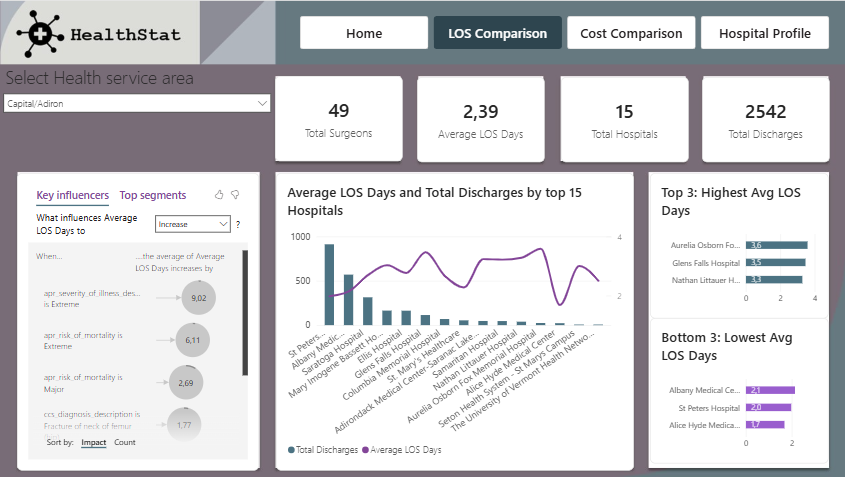

What the dashboard file says about the page in this screenshot:
{"tool":"powerbi","page":{"name":"LOS Comparison","canvas":[1920,1080],"ordinal":1},"visuals":[{"type":"lineStackedColumnComboChart","title":"Average LOS Days and Total Discharges by top 15 Hospitals","fields":{"Category":["hospital_discharges.facility_name"],"Y":["_Measures.Total Discharges"],"Y2":["_Measures.Average LOS Days"]},"box":[737.5,436.2,541.2,450],"z":0},{"type":"card","fields":{"Values":["_Measures.Total Surgeons"]},"box":[736,291,192.5,128.8],"z":1000},{"type":"slicer","fields":{"Values":["hospital_discharges.health_service_area"]},"box":[321.2,273.8,415,162.5],"z":2000},{"type":"keyDriversVisual","fields":{"ExplainBy":["hospital_discharges.apr_risk_of_mortality","hospital_discharges.apr_severity_of_illness_description","hospital_discharges.ccs_diagnosis_description","hospital_discharges.patient_disposition","hospital_discharges.gender","hospital_discharges.age_group","surgical_program_volume_summary.Surgical Program Size","hospital_discharges.health_service_area"],"Target":["_Measures.Average LOS Days"]},"box":[346.2,436.2,366.2,450],"z":3000},{"type":"clusteredBarChart","title":"Top 3: Highest Avg LOS Days","fields":{"Category":["hospital_discharges.facility_name"],"Y":["_Measures.Average LOS Days"]},"box":[1303.8,436.2,270,220],"z":4000},{"type":"clusteredBarChart","title":"Bottom 3: Lowest Avg LOS Days","fields":{"Category":["hospital_discharges.facility_name"],"Y":["_Measures.Average LOS Days"]},"box":[1303.8,656.2,270,220],"z":5000},{"type":"card","fields":{"Values":["_Measures.Average LOS Days"]},"box":[951.2,291.2,192.5,128.8],"z":6000},{"type":"card","fields":{"Values":["_Measures.Total Hospitals"]},"box":[1168.8,291.2,192.5,128.8],"z":7000},{"type":"card","fields":{"Values":["_Measures.Total Discharges"]},"box":[1381.2,291.2,192.5,128.8],"z":8000},{"type":"pageNavigator","box":[774.3,200,800,50],"z":9000}]}

Visuals, with their boxes in screenshot pixels (x1, y1, x2, y2), scaled from the page's 1920x1080 canvas onto the 845x477 screenshot:
"Average LOS Days and Total Discharges by top 15 Hospitals" lineStackedColumnComboChart: locate(325, 193, 563, 391)
card - _Measures.Total Surgeons: locate(324, 129, 409, 185)
slicer - hospital_discharges.health_service_area: locate(141, 121, 324, 193)
keyDriversVisual - hospital_discharges.apr_risk_of_mortality x hospital_discharges.apr_severity_of_illness_description: locate(152, 193, 314, 391)
"Top 3: Highest Avg LOS Days" clusteredBarChart: locate(574, 193, 693, 290)
"Bottom 3: Lowest Avg LOS Days" clusteredBarChart: locate(574, 290, 693, 387)
card - _Measures.Average LOS Days: locate(419, 129, 503, 186)
card - _Measures.Total Hospitals: locate(514, 129, 599, 186)
card - _Measures.Total Discharges: locate(608, 129, 693, 186)
pageNavigator: locate(341, 88, 693, 110)
